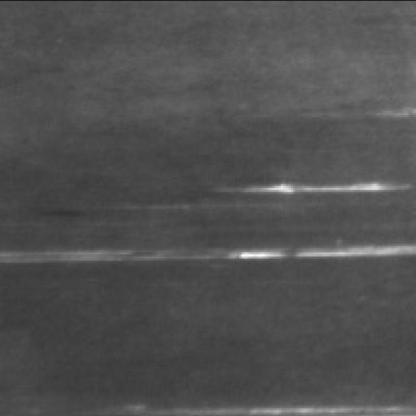scratches: (222, 170, 410, 198), (218, 235, 412, 262)
